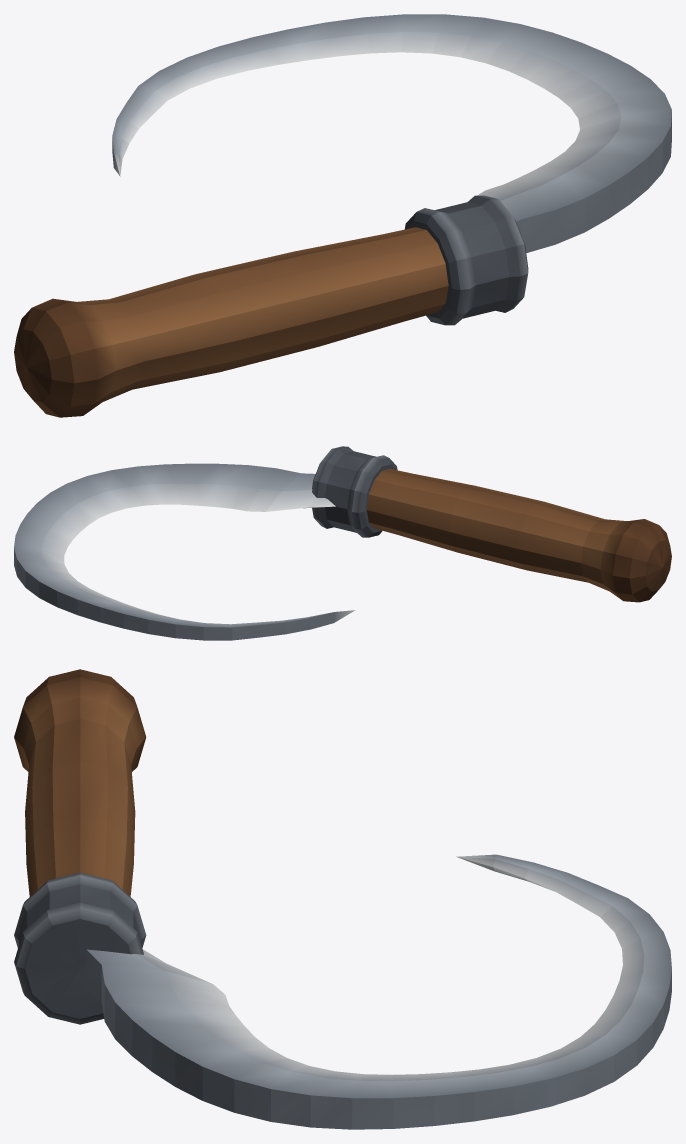
Rendered from Sickle.fbx.
3 renders of one model, top to bottom at view 1: azimuth 30°, elevation 25°; view 2: azimuth 150°, elevation 25°; view 3: azimuth 270°, elevation 25°, orthographic. The views are drawn at different scales.
Parts seen in each view (by area): view 1: SickleBlade, SickleHandle; view 2: SickleBlade, SickleHandle; view 3: SickleBlade, SickleHandle.
Boxes of the visible parts, bbox=[...] form: SickleBlade: bbox=[112, 14, 671, 325]; SickleHandle: bbox=[14, 227, 448, 417]; SickleBlade: bbox=[14, 446, 397, 640]; SickleHandle: bbox=[367, 469, 671, 602]; SickleBlade: bbox=[14, 854, 671, 1129]; SickleHandle: bbox=[14, 669, 146, 896].
Bounding box in the file's own units: 342 × 48 × 239.
